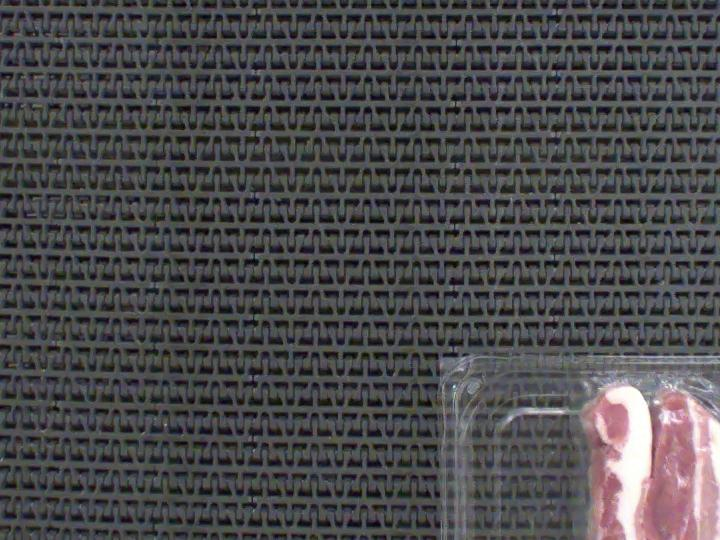unsealed: (557, 352, 720, 540)
